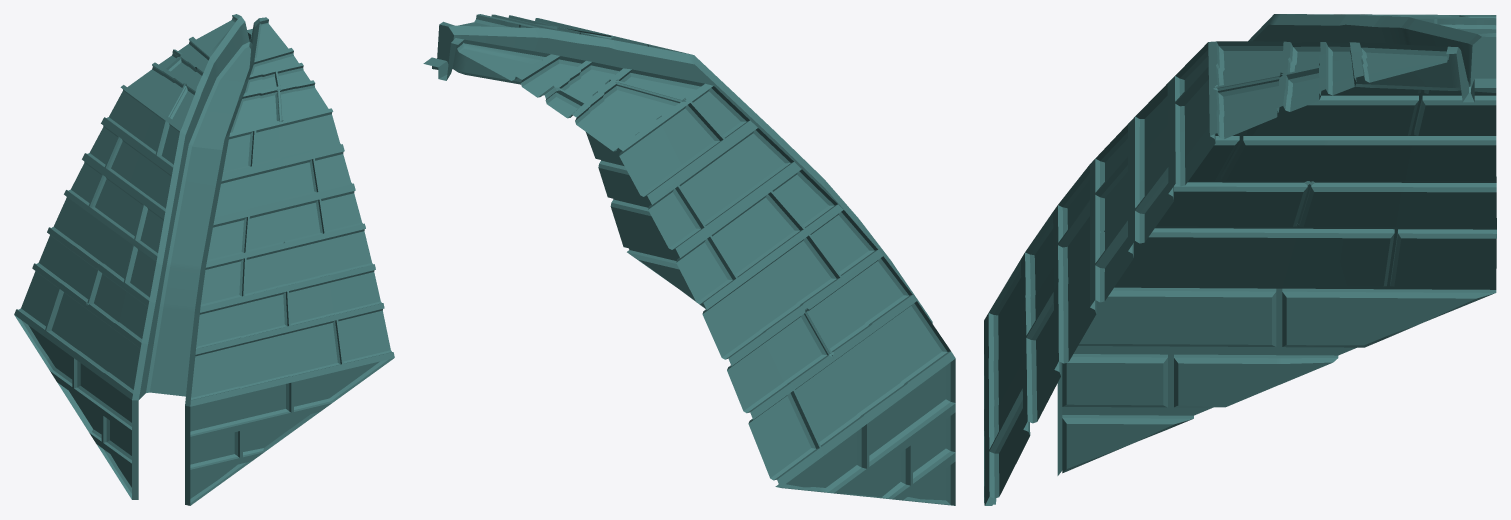
File: Brick_Corner_Full.fbx
3 renders of one model, left to right at view 1: azimuth 30°, elevation 25°; view 2: azimuth 150°, elevation 25°; view 3: azimuth 270°, elevation 25°, orthographic. The views are drawn at different scales.
Parts seen in each view (by area): view 1: Brick_Corner_Full; view 2: Brick_Corner_Full; view 3: Brick_Corner_Full.
Part boxes in pixels (x1,y1,x2,y2): Brick_Corner_Full: (14,14,394,505); Brick_Corner_Full: (423,14,955,505); Brick_Corner_Full: (984,14,1496,505).
Bounding box in the file's own units: 199 × 272 × 199.
